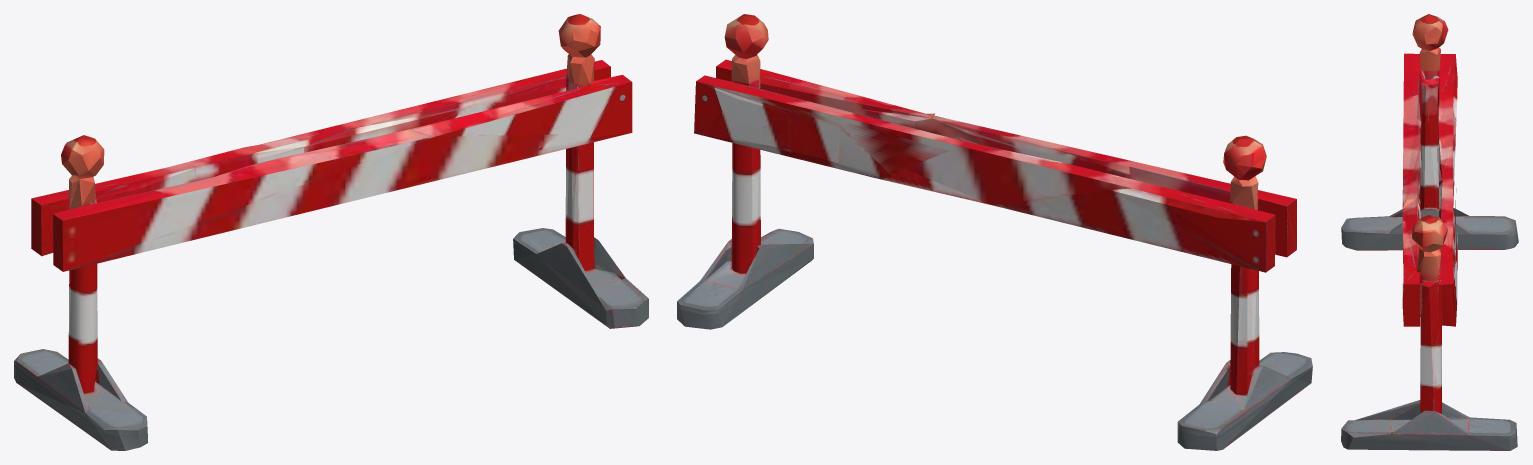
File: road_barrier.glb
3 renders of one model, left to right at view 1: azimuth 30°, elevation 25°; view 2: azimuth 150°, elevation 25°; view 3: azimuth 270°, elevation 25°, orthographic. The views are drawn at different scales.
Size of the model in its own units: 1.9 by 0.8751 by 0.6189.
1 material, 1 textured.
